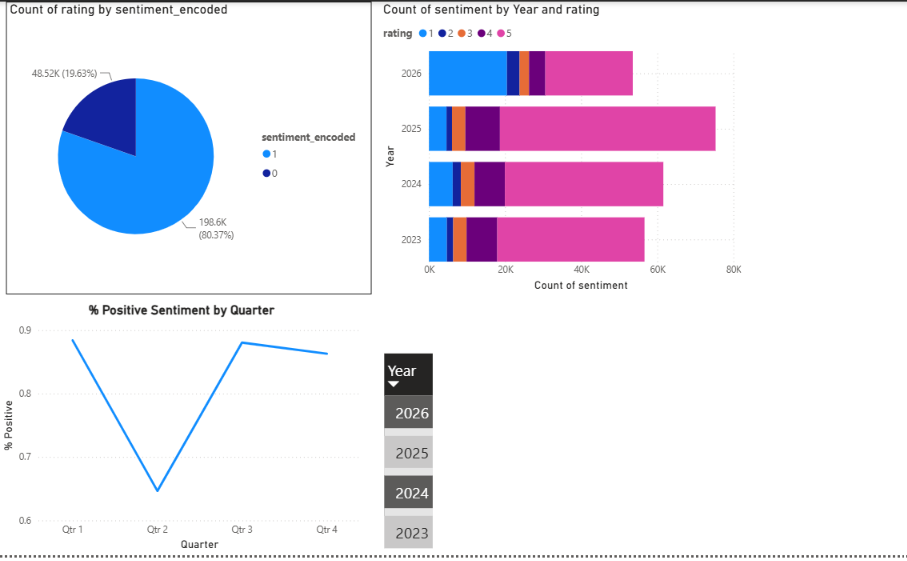

What the dashboard file says about the page in this screenshot:
{"tool":"powerbi","page":{"name":"Page 1","canvas":[1280,720],"ordinal":0},"visuals":[{"type":"pieChart","fields":{"Category":["safaricom_analytics predicted_reviews.sentiment_encoded"],"Y":["CountNonNull(safaricom_analytics predicted_reviews.rating)"]},"box":[9.9,0,475.3,381.3],"z":0},{"type":"barChart","fields":{"Category":["safaricom_analytics predicted_reviews.posted_at.Variation.Date Hierarchy.Year"],"Y":["CountNonNull(safaricom_analytics predicted_reviews.sentiment)"],"Series":["safaricom_analytics predicted_reviews.rating"]},"box":[495,0,475,381],"z":1000},{"type":"tableEx","fields":{"Values":["safaricom_analytics predicted_reviews.posted_at.Variation.Date Hierarchy.Year"]},"box":[495.1,452.2,75.9,267.4],"z":2000},{"type":"lineChart","title":"% Positive Sentiment by Quarter","fields":{"Y":["safaricom_analytics predicted_reviews.% Positive"],"Category":["safaricom_analytics predicted_reviews.posted_at.Variation.Date Hierarchy.Quarter"]},"box":[0,391.9,475.8,327.4],"z":3000}]}

Visuals, with their boxes on the page's 1280x720 design canvas (x1, y1, x2, y2). These are canvas units, not pixel positions in the 907x561 screenshot, which may show the page scaled, cropped or inside an application window:
pieChart - safaricom_analytics predicted_reviews.sentiment_encoded x CountNonNull(safaricom_analytics predicted_reviews.rating): {"x1": 10, "y1": 0, "x2": 485, "y2": 381}
barChart - safaricom_analytics predicted_reviews.posted_at.Variation.Date Hierarchy.Year x CountNonNull(safaricom_analytics predicted_reviews.sentiment): {"x1": 495, "y1": 0, "x2": 970, "y2": 381}
tableEx - safaricom_analytics predicted_reviews.posted_at.Variation.Date Hierarchy.Year: {"x1": 495, "y1": 452, "x2": 571, "y2": 720}
"% Positive Sentiment by Quarter" lineChart: {"x1": 0, "y1": 392, "x2": 476, "y2": 719}
